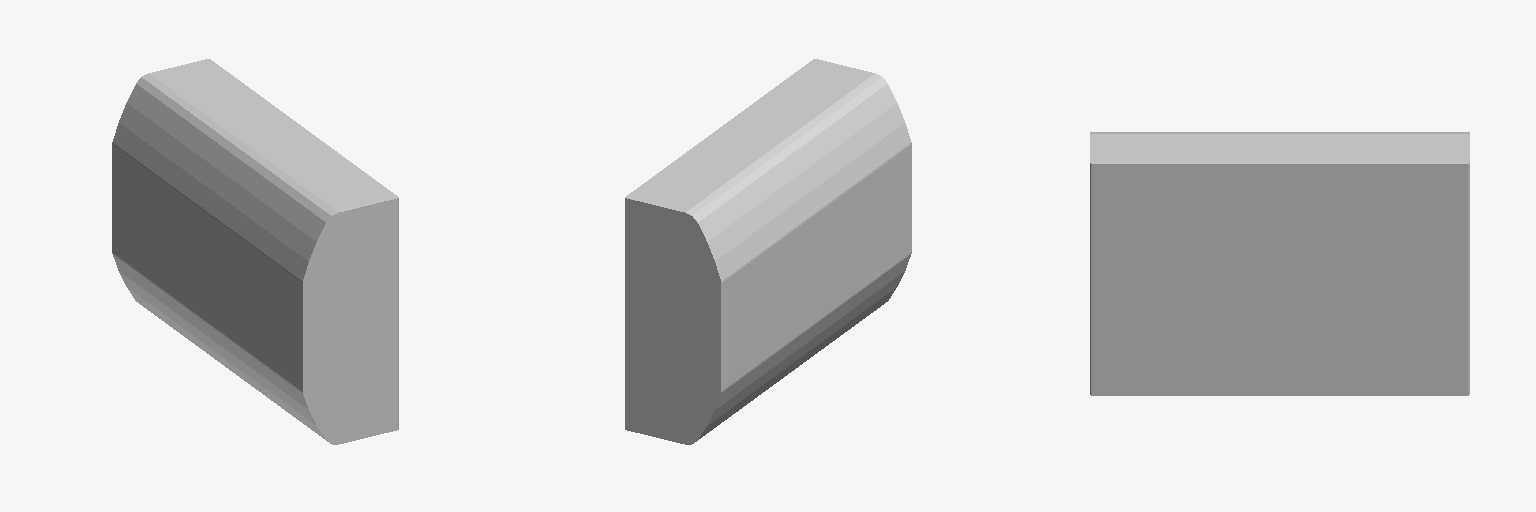
File: torso_fixed_link.obj
3 views of the same model, side by side, from view 1: azimuth 30°, elevation 25°; view 2: azimuth 150°, elevation 25°; view 3: azimuth 270°, elevation 25° (orthographic).
Visible parts, largest first — view 1: obj1; view 2: obj1; view 3: obj1.
Part boxes in pixels (bbox=[...]): obj1: bbox=[112, 59, 398, 444]; obj1: bbox=[625, 59, 911, 444]; obj1: bbox=[1090, 132, 1469, 395].
Size of the model in its own units: 0.1362 by 0.3107 by 0.4619.